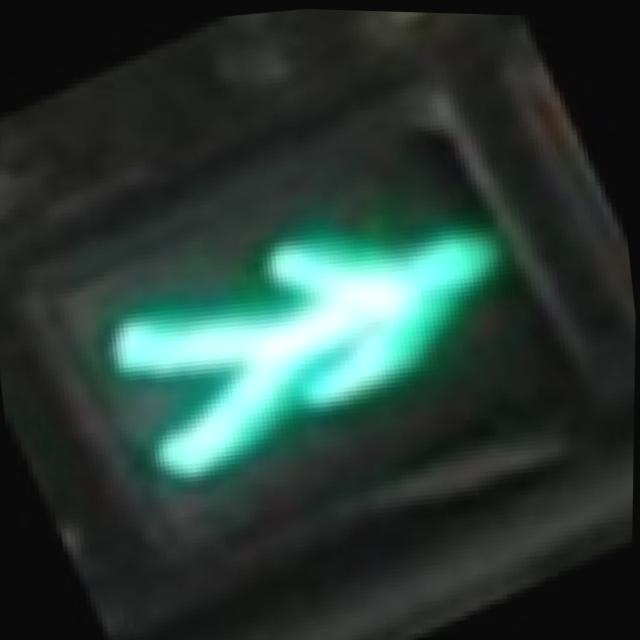green_light: (48, 72, 605, 567)
